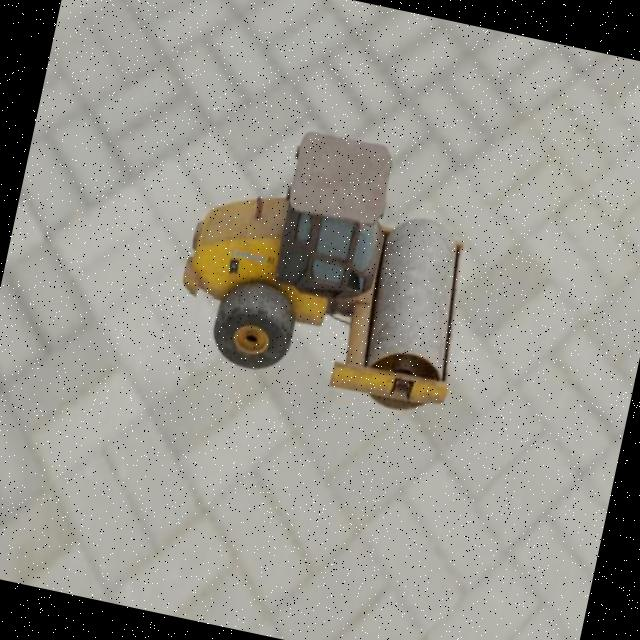Roller: (164, 108, 496, 420)
